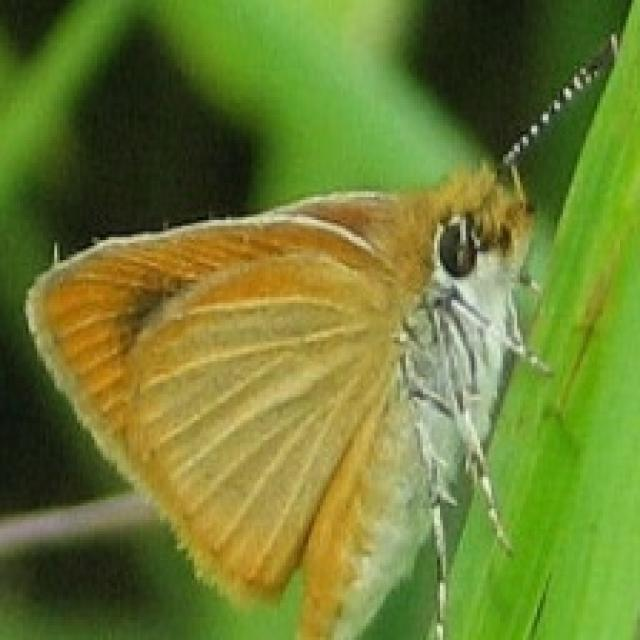butterfly: (20, 29, 623, 637)
